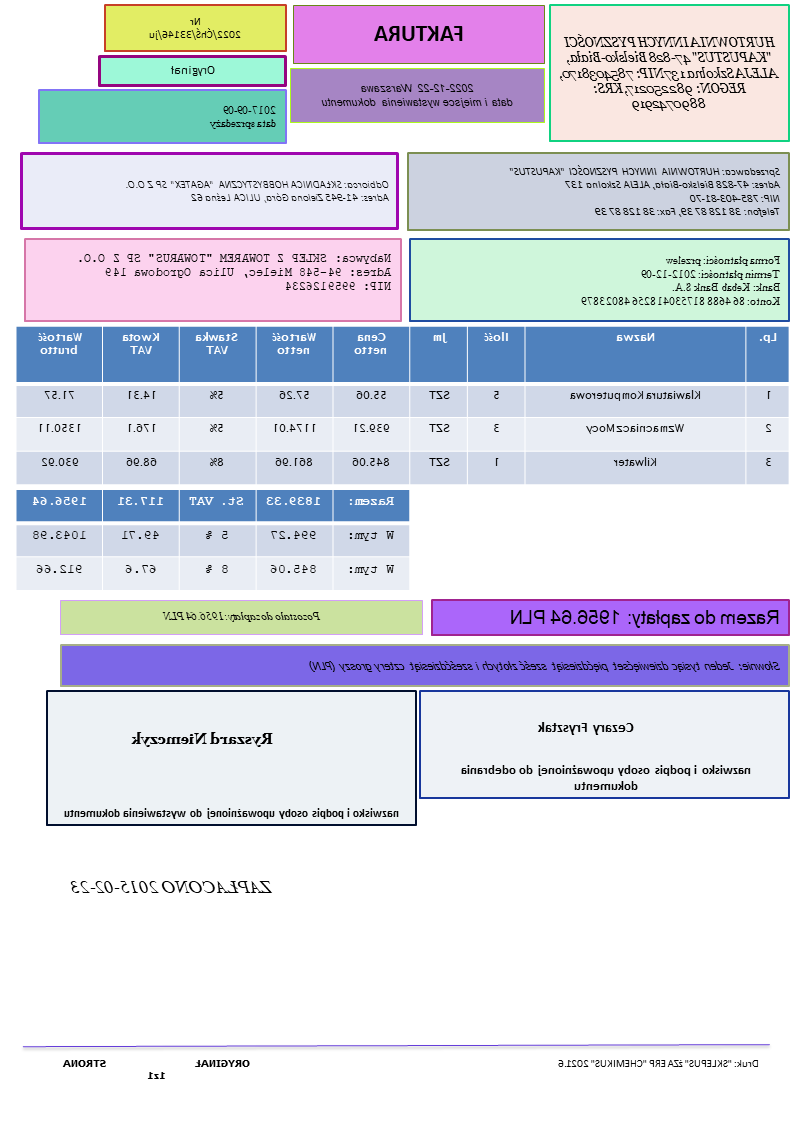Table: (15, 324, 791, 486), (14, 489, 411, 591)
TextBox: (556, 33, 781, 114), (507, 165, 783, 220), (75, 250, 394, 293), (578, 252, 782, 308), (458, 762, 755, 791), (307, 658, 782, 675), (124, 175, 392, 204), (509, 606, 782, 630), (62, 805, 402, 822), (319, 81, 514, 110), (61, 1056, 254, 1083), (68, 877, 275, 896), (130, 728, 274, 748), (556, 1057, 761, 1071), (147, 15, 243, 43), (160, 608, 323, 623), (372, 22, 466, 45), (209, 102, 279, 131), (536, 719, 635, 736), (169, 62, 217, 78)
